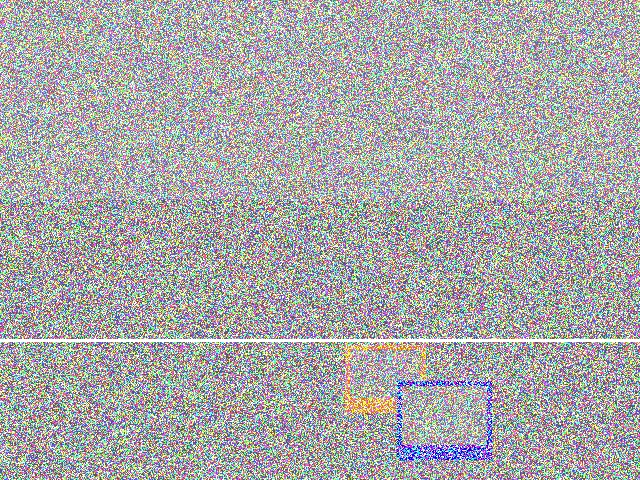bus: (180, 306, 263, 448)
car: (231, 220, 400, 277)
